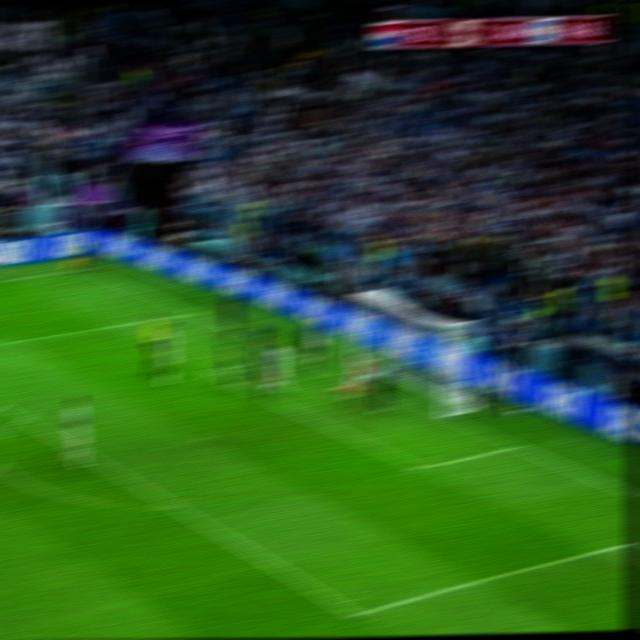bigarea_bottom_inner: (338, 597, 371, 629)
bigarea_top_outter: (180, 302, 204, 319)
bottom_arc_area_intersection: (159, 492, 190, 517)
corner: (76, 262, 101, 275)
smallarea_bottom_inner: (405, 451, 436, 480)
smallarea_bottom_outter: (502, 432, 532, 455)
smallarea_top_inner: (200, 361, 226, 380)
top_arc_area_intersection: (10, 407, 35, 426)
